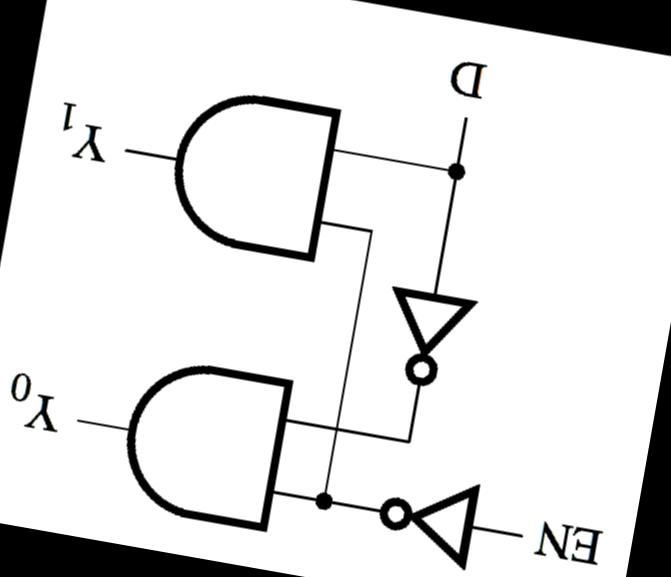and: (146, 67, 361, 277), (98, 338, 311, 543)
not: (366, 262, 490, 402), (360, 459, 490, 576)
